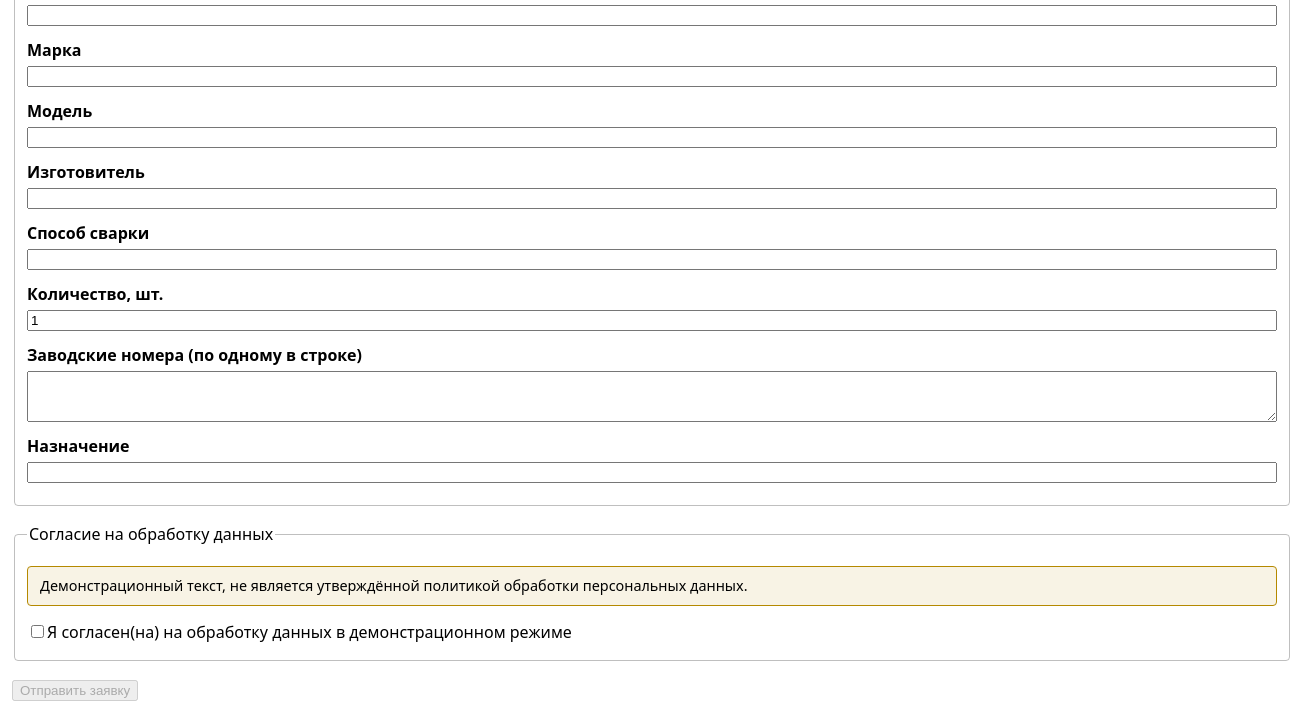
Scenario: SurveyWidget › shows a generic, non-technical message when the request fails outright
(page scrolled)
Click the checkbox labelled "Я согласен(на) на обработку данных в демонстрационном режиме".
click(38, 632)  # box [31, 625, 44, 638]
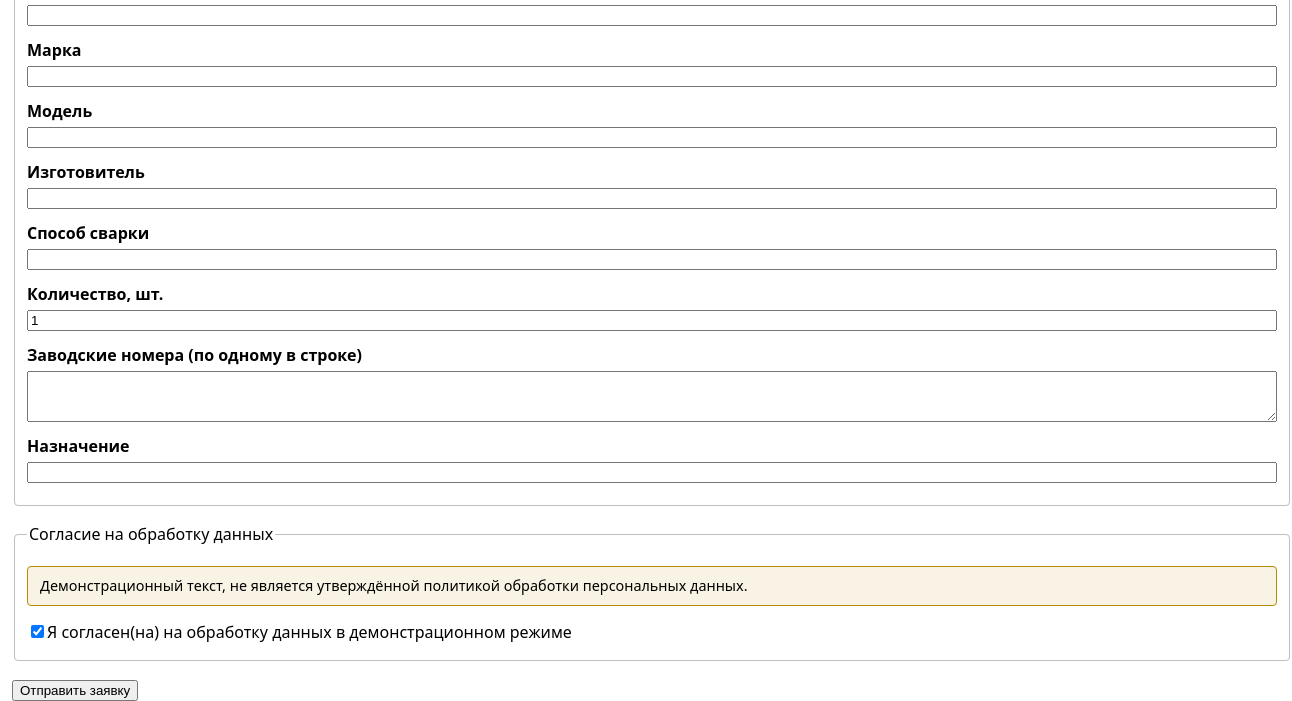
Click the button "Отправить заявку".
click(75, 690)  # box [12, 680, 138, 700]
(page scrolled)
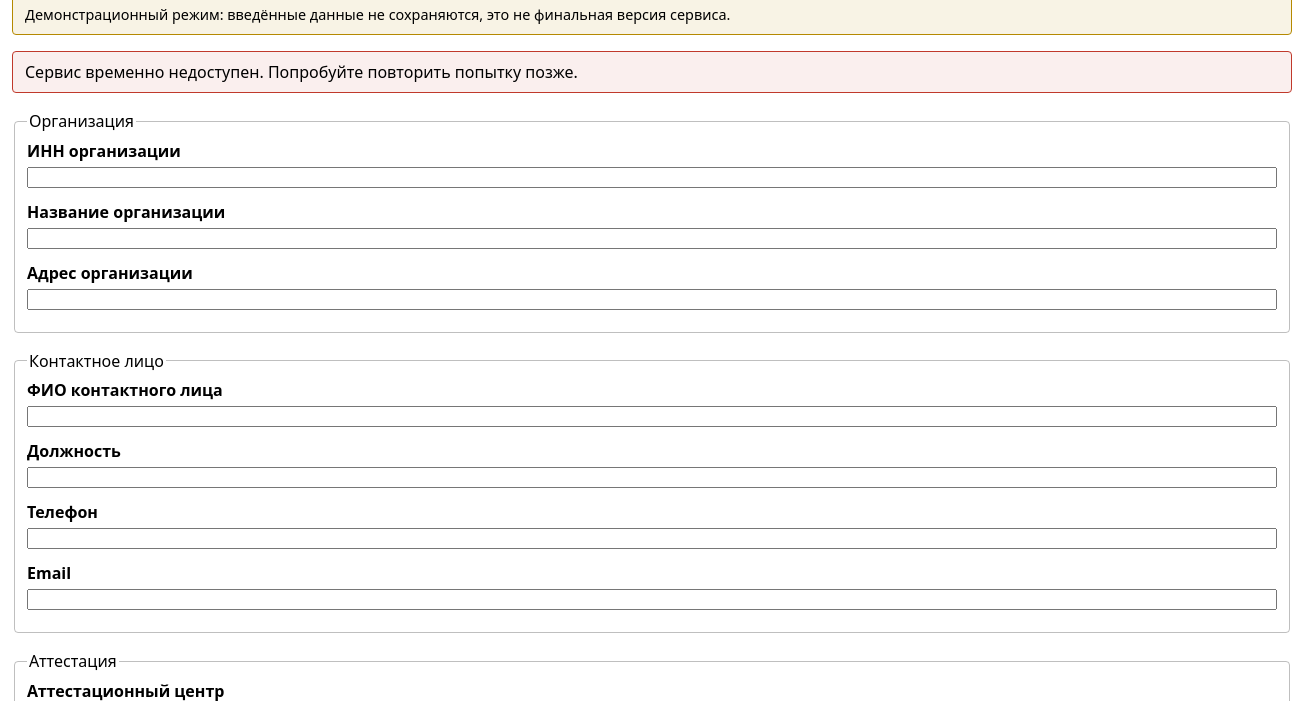
Expected: the text "Сервис временно недоступен. Попробуйте повторить попытку позже." is shown, [12, 51, 1291, 93]
